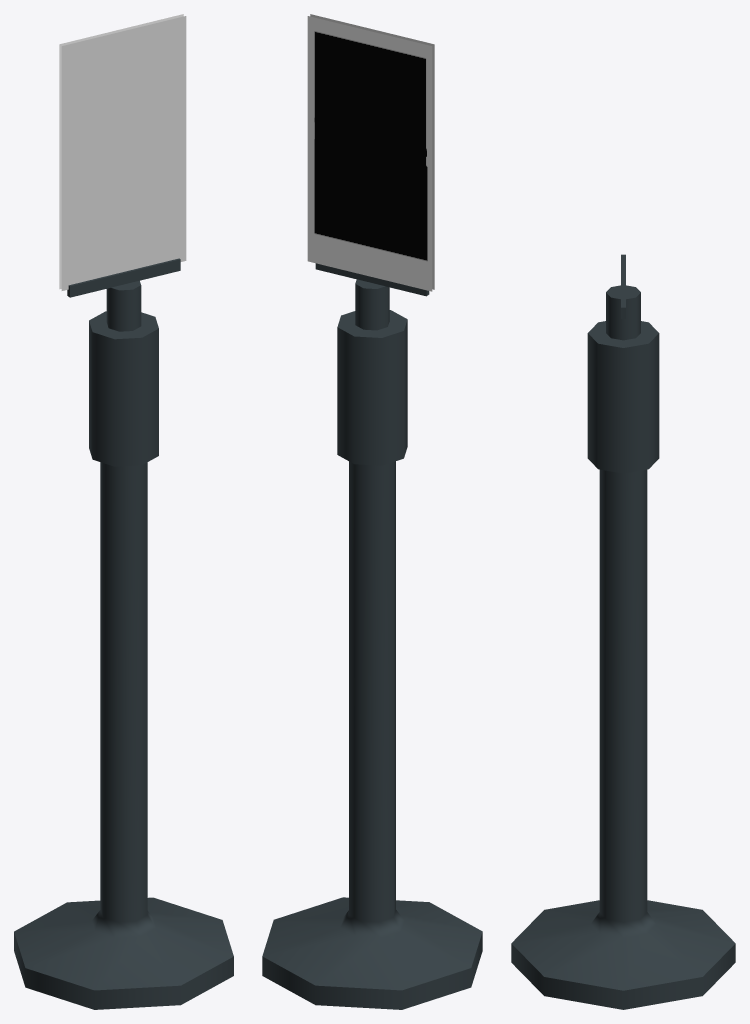
The model's file is SM_PoleSign.fbx.
3 views of the same model, side by side, from view 1: azimuth 30°, elevation 25°; view 2: azimuth 150°, elevation 25°; view 3: azimuth 270°, elevation 25° (orthographic).
Visible parts, largest first — view 1: polySurface2, polySurface1; view 2: polySurface2, polySurface1; view 3: polySurface2.
Part boxes in pixels (x1=…): polySurface2: x1=14, y1=16, x2=233, y2=1009; polySurface1: x1=59, y1=14, x2=183, y2=289; polySurface2: x1=262, y1=14, x2=482, y2=1009; polySurface1: x1=307, y1=16, x2=432, y2=291; polySurface2: x1=511, y1=254, x2=735, y2=1009.
Bounding box in the file's own units: 0.2101 × 0.9493 × 0.2101.
